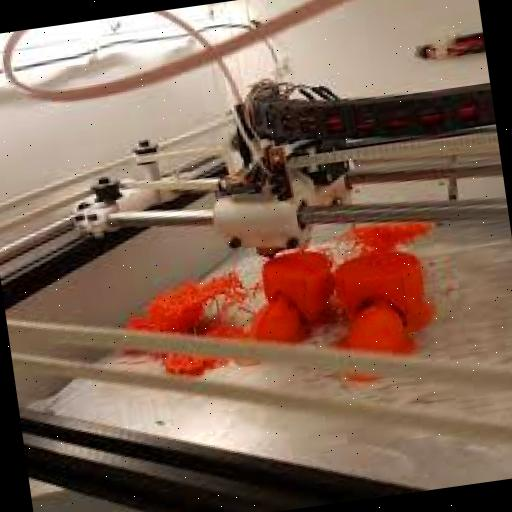spaghetti: (114, 256, 254, 383), (326, 207, 436, 270)
